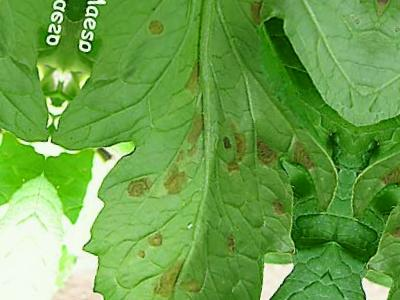Tomato mold leaf: (29, 0, 348, 300)
